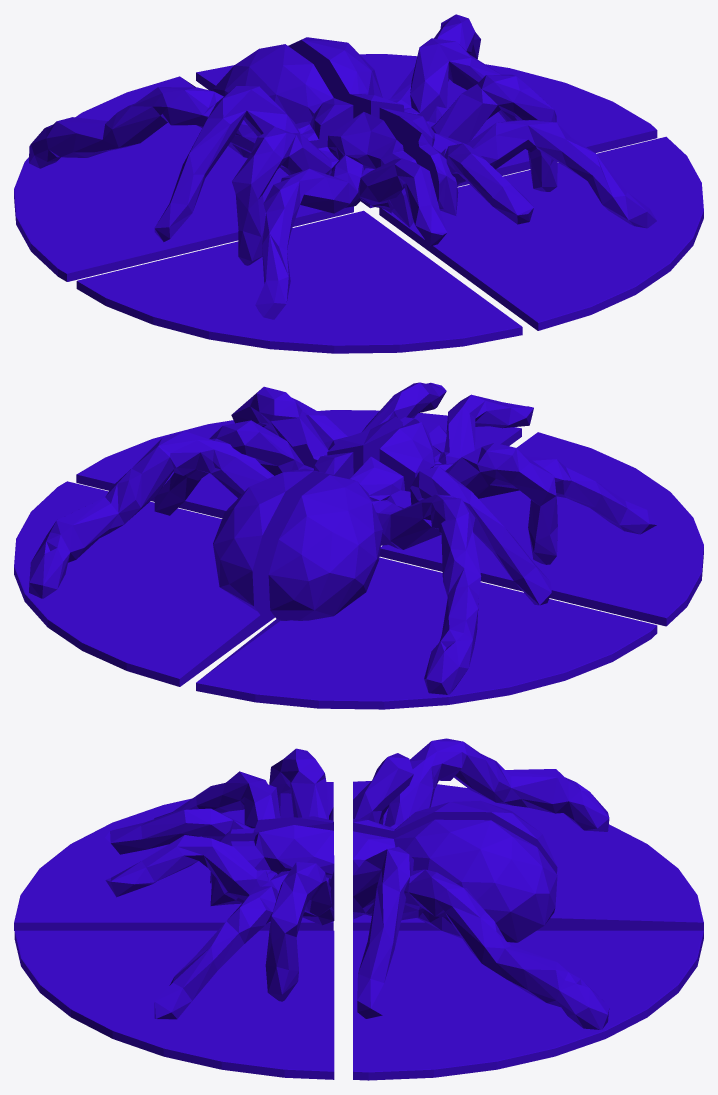
Rendered from plastic_tarantula.fbx.
The picture shows the model from 3 angles, top to bottom: view 1: azimuth 30°, elevation 25°; view 2: azimuth 150°, elevation 25°; view 3: azimuth 270°, elevation 25°; orthographic projection.
Parts seen in each view (by area): view 1: tar2.004, tar2.001, tar2.002, tar2.003; view 2: tar2.002, tar2.003, tar2.004, tar2.001; view 3: tar2.003, tar2.001, tar2.002, tar2.004.
Part boxes in pixels (left/top/right/bottom): tar2.004: left=76, top=112, right=522, bottom=353; tar2.001: left=379, top=74, right=703, bottom=330; tar2.002: left=14, top=44, right=353, bottom=281; tar2.003: left=196, top=14, right=657, bottom=208; tar2.002: left=196, top=456, right=657, bottom=709; tar2.003: left=14, top=420, right=353, bottom=686; tar2.004: left=379, top=394, right=703, bottom=626; tar2.001: left=76, top=382, right=521, bottom=518; tar2.003: left=353, top=819, right=703, bottom=1080; tar2.001: left=14, top=825, right=334, bottom=1079; tar2.002: left=353, top=738, right=703, bottom=930; tar2.004: left=14, top=748, right=333, bottom=930.
Size of the model in its own units: 1850 by 391 by 1851.
